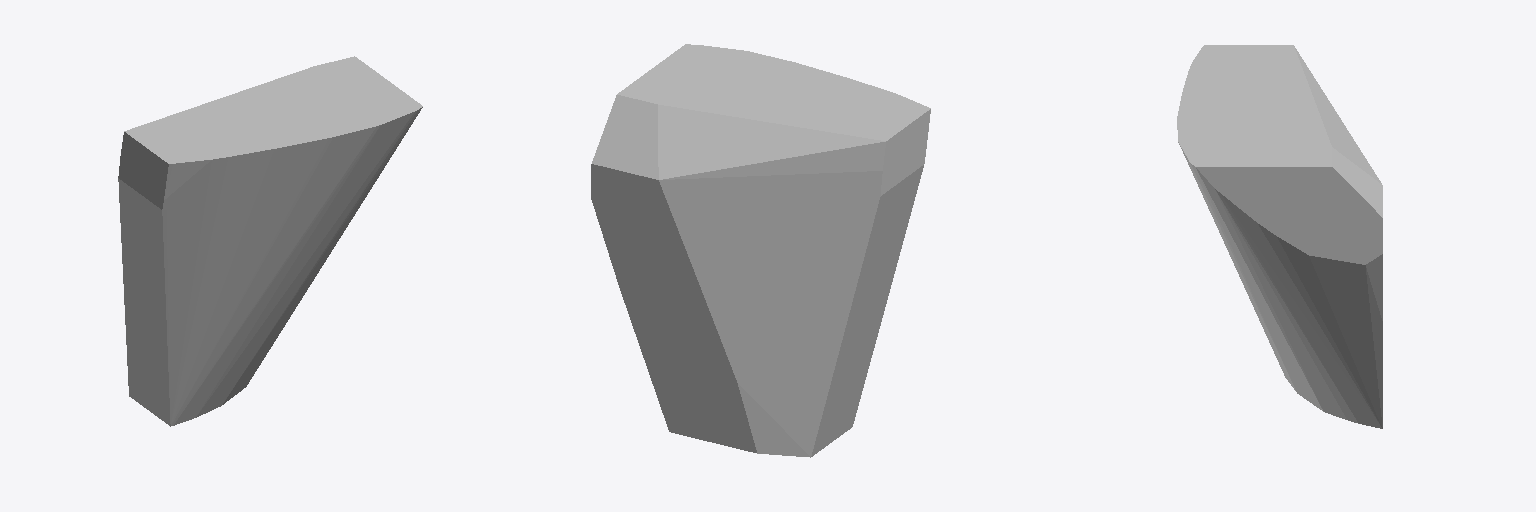
File: phantom-elastrat_collision_222.obj
3 views of the same model, side by side, from view 1: azimuth 30°, elevation 25°; view 2: azimuth 150°, elevation 25°; view 3: azimuth 270°, elevation 25° (orthographic).
Bounding box in the file's own units: 0.006 × 0.0069 × 0.0043.